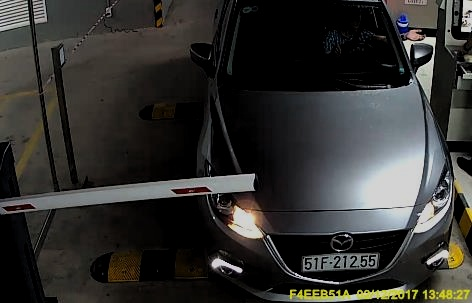plate: (298, 246, 384, 274)
